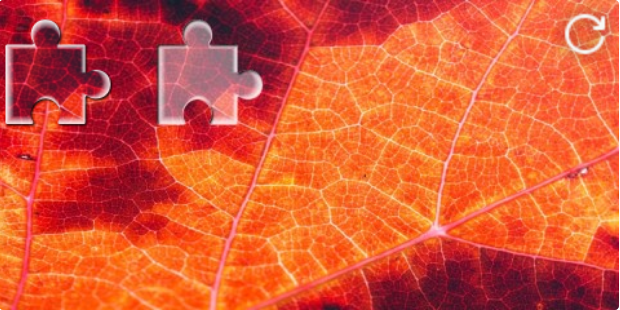target: (158, 20, 260, 125)
